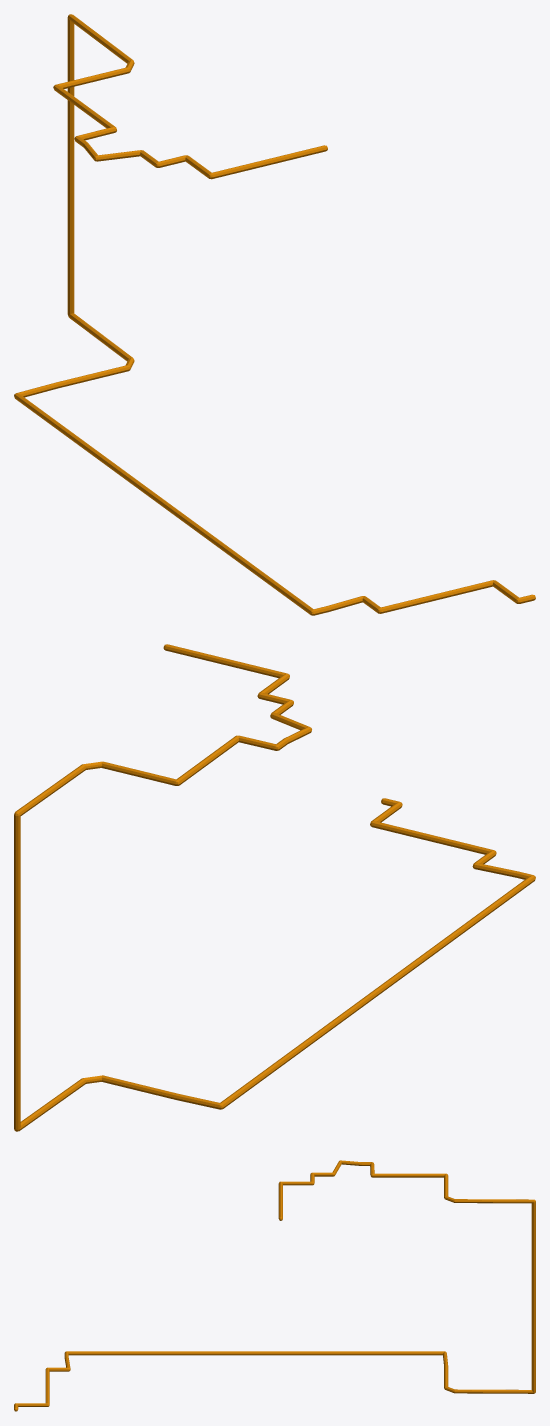
3 renders of one model, top to bottom at view 1: azimuth 30°, elevation 25°; view 2: azimuth 150°, elevation 25°; view 3: azimuth 270°, elevation 25°, orthographic. The views are drawn at different scales.
Size of the model in its own units: 660 by 1020 by 2485.
